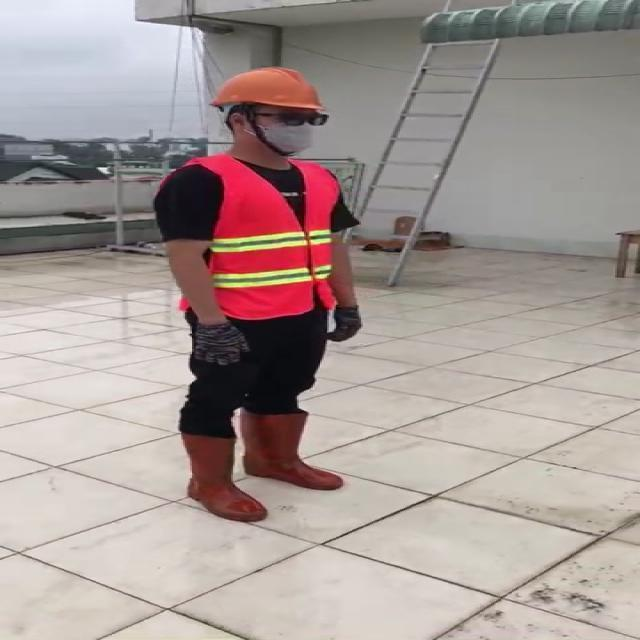gloves: (189, 319, 248, 374), (318, 296, 372, 348)
helmet: (206, 63, 336, 126)
safety_vest: (200, 152, 338, 316)
